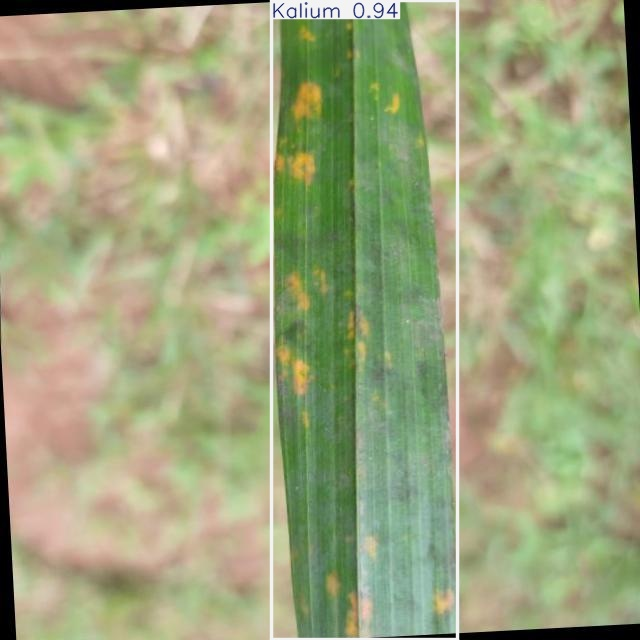Kalium: (271, 0, 458, 640)
